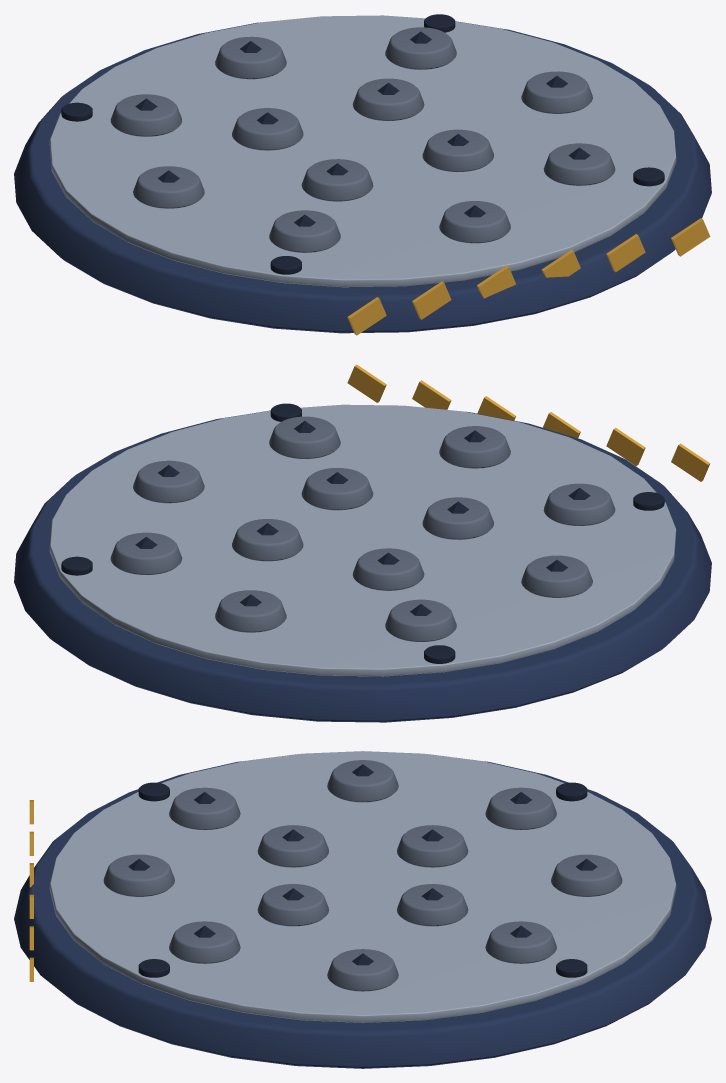
The model's file is trap_spike_spent.glb.
The picture shows the model from 3 angles, top to bottom: view 1: azimuth 30°, elevation 25°; view 2: azimuth 150°, elevation 25°; view 3: azimuth 270°, elevation 25°; orthographic projection.
Parts seen in each view (by area): view 1: trap_spike_plate_rim, trap_spike_plate, trap_spike_hazard, trap_spike_socket4, trap_spike_socket7, trap_spike_socket11, trap_spike_socket9, trap_spike_socket5, trap_spike_socket8, trap_spike_socket1, trap_spike_socket2, trap_spike_socket6 (+6 smaller); view 2: trap_spike_plate_rim, trap_spike_plate, trap_spike_hazard, trap_spike_socket2, trap_spike_socket8, trap_spike_socket10, trap_spike_socket6, trap_spike_socket1, trap_spike_socket4, trap_spike_socket0, trap_spike_socket3, trap_spike_socket11 (+3 smaller); view 3: trap_spike_plate_rim, trap_spike_plate, trap_spike_socket6, trap_spike_socket10, trap_spike_socket4, trap_spike_socket5, trap_spike_socket8, trap_spike_socket11, trap_spike_socket1, trap_spike_socket2, trap_spike_socket0, trap_spike_socket3 (+7 smaller).
Part boxes in pixels (x1,y1,x2,y2): trap_spike_plate_rim: [49, 15, 676, 287]; trap_spike_plate: [14, 21, 711, 333]; trap_spike_hazard: [347, 218, 710, 335]; trap_spike_socket4: [521, 71, 592, 113]; trap_spike_socket7: [269, 210, 340, 252]; trap_spike_socket11: [385, 27, 456, 69]; trap_spike_socket9: [110, 94, 182, 136]; trap_spike_socket5: [543, 143, 615, 185]; trap_spike_socket8: [133, 166, 204, 208]; trap_spike_socket1: [301, 159, 373, 201]; trap_spike_socket2: [232, 108, 303, 150]; trap_spike_socket6: [439, 201, 510, 243]; trap_spike_plate_rim: [49, 404, 676, 676]; trap_spike_plate: [14, 410, 711, 722]; trap_spike_hazard: [347, 364, 710, 481]; trap_spike_socket2: [352, 548, 424, 590]; trap_spike_socket8: [521, 555, 592, 597]; trap_spike_socket10: [215, 590, 286, 632]; trap_spike_socket6: [439, 426, 510, 468]; trap_spike_socket1: [422, 497, 493, 539]; trap_spike_socket4: [133, 460, 204, 503]; trap_spike_socket0: [301, 468, 373, 510]; trap_spike_socket3: [232, 519, 303, 561]; trap_spike_socket11: [110, 532, 182, 574]; trap_spike_plate_rim: [49, 751, 676, 1022]; trap_spike_plate: [14, 754, 711, 1068]; trap_spike_socket6: [103, 854, 174, 896]; trap_spike_socket10: [551, 854, 622, 896]; trap_spike_socket4: [327, 949, 398, 991]; trap_spike_socket5: [169, 921, 240, 963]; trap_spike_socket8: [327, 760, 398, 802]; trap_spike_socket11: [485, 921, 556, 963]; trap_spike_socket1: [257, 825, 328, 867]; trap_spike_socket2: [397, 825, 468, 867]; trap_spike_socket0: [257, 884, 328, 926]; trap_spike_socket3: [397, 884, 468, 926].
Size of the model in its own units: 1.56 by 0.16 by 1.56.
